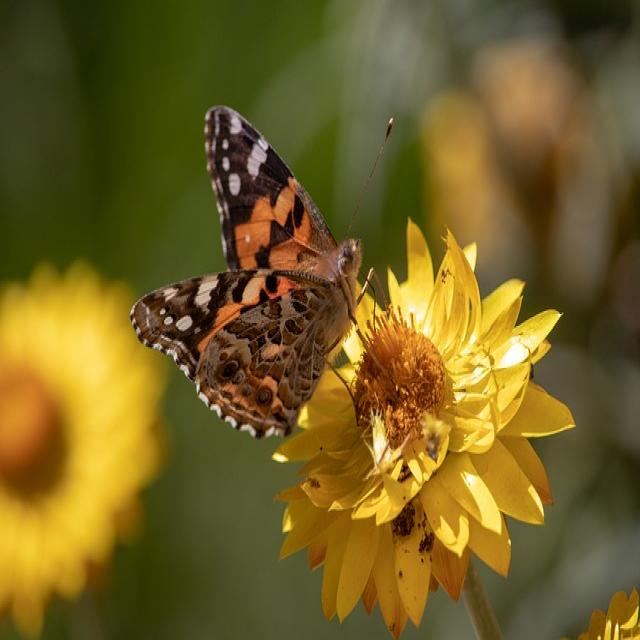butterfly: (130, 107, 363, 440)
